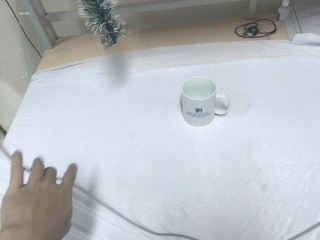cup: (179, 74, 232, 129)
